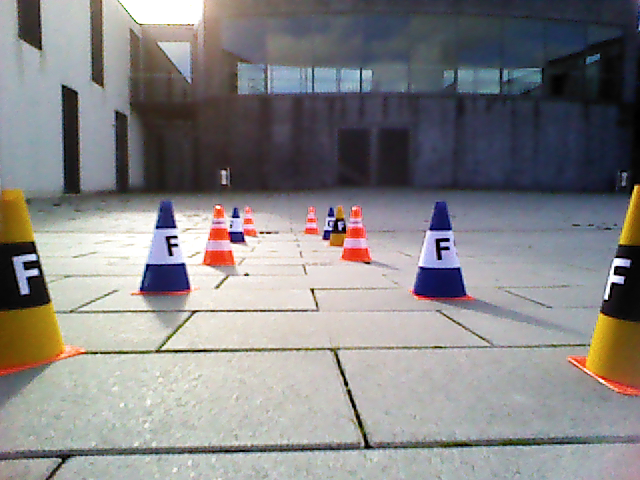bluecone: (411, 199, 466, 297), (140, 200, 190, 293), (228, 207, 244, 241), (323, 208, 333, 239)
orangeconesmall: (203, 204, 236, 268), (343, 206, 372, 262), (305, 206, 320, 234), (244, 206, 256, 235)
yellowcone: (1, 189, 67, 367), (593, 184, 640, 383), (330, 206, 346, 247)
